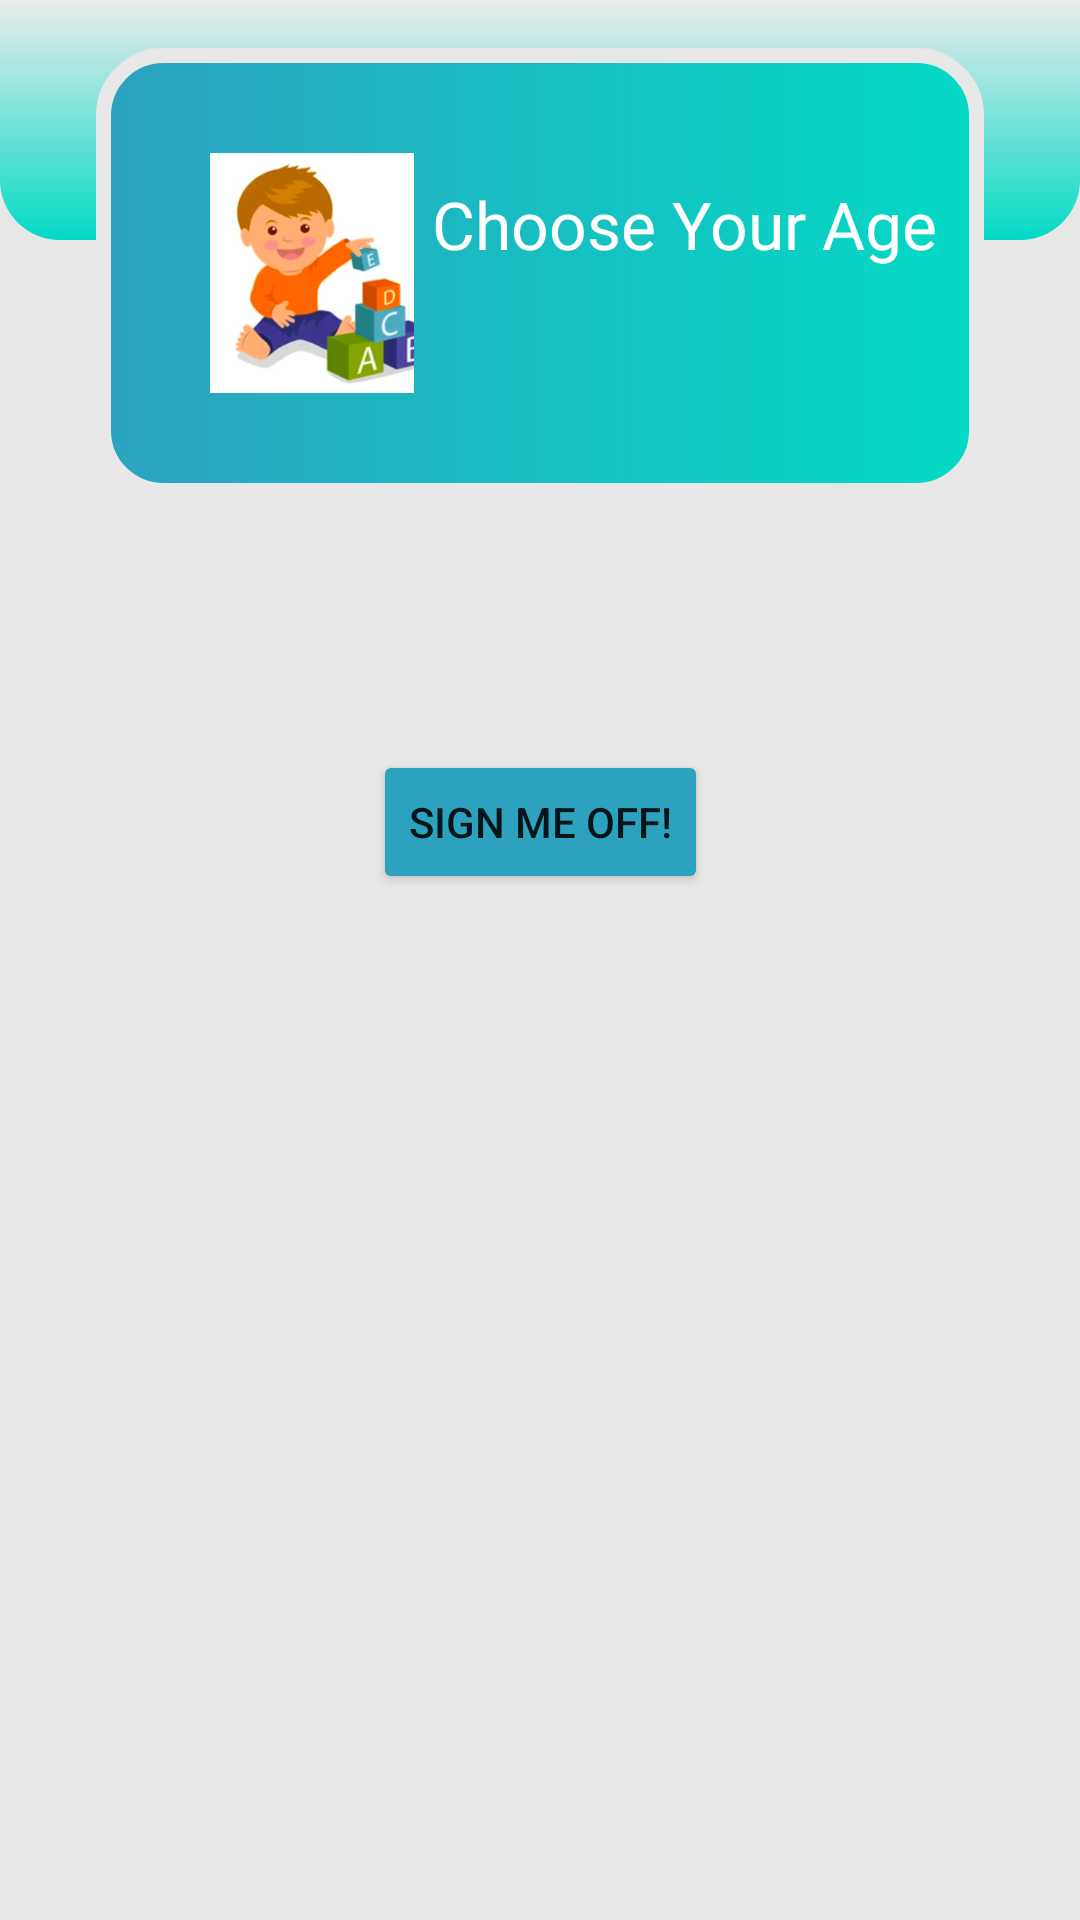

Screen size 1080 x 1920. Icon name, then its box in pixels as (x1, y1, x2, y2):
tod: (210, 153, 414, 393)
